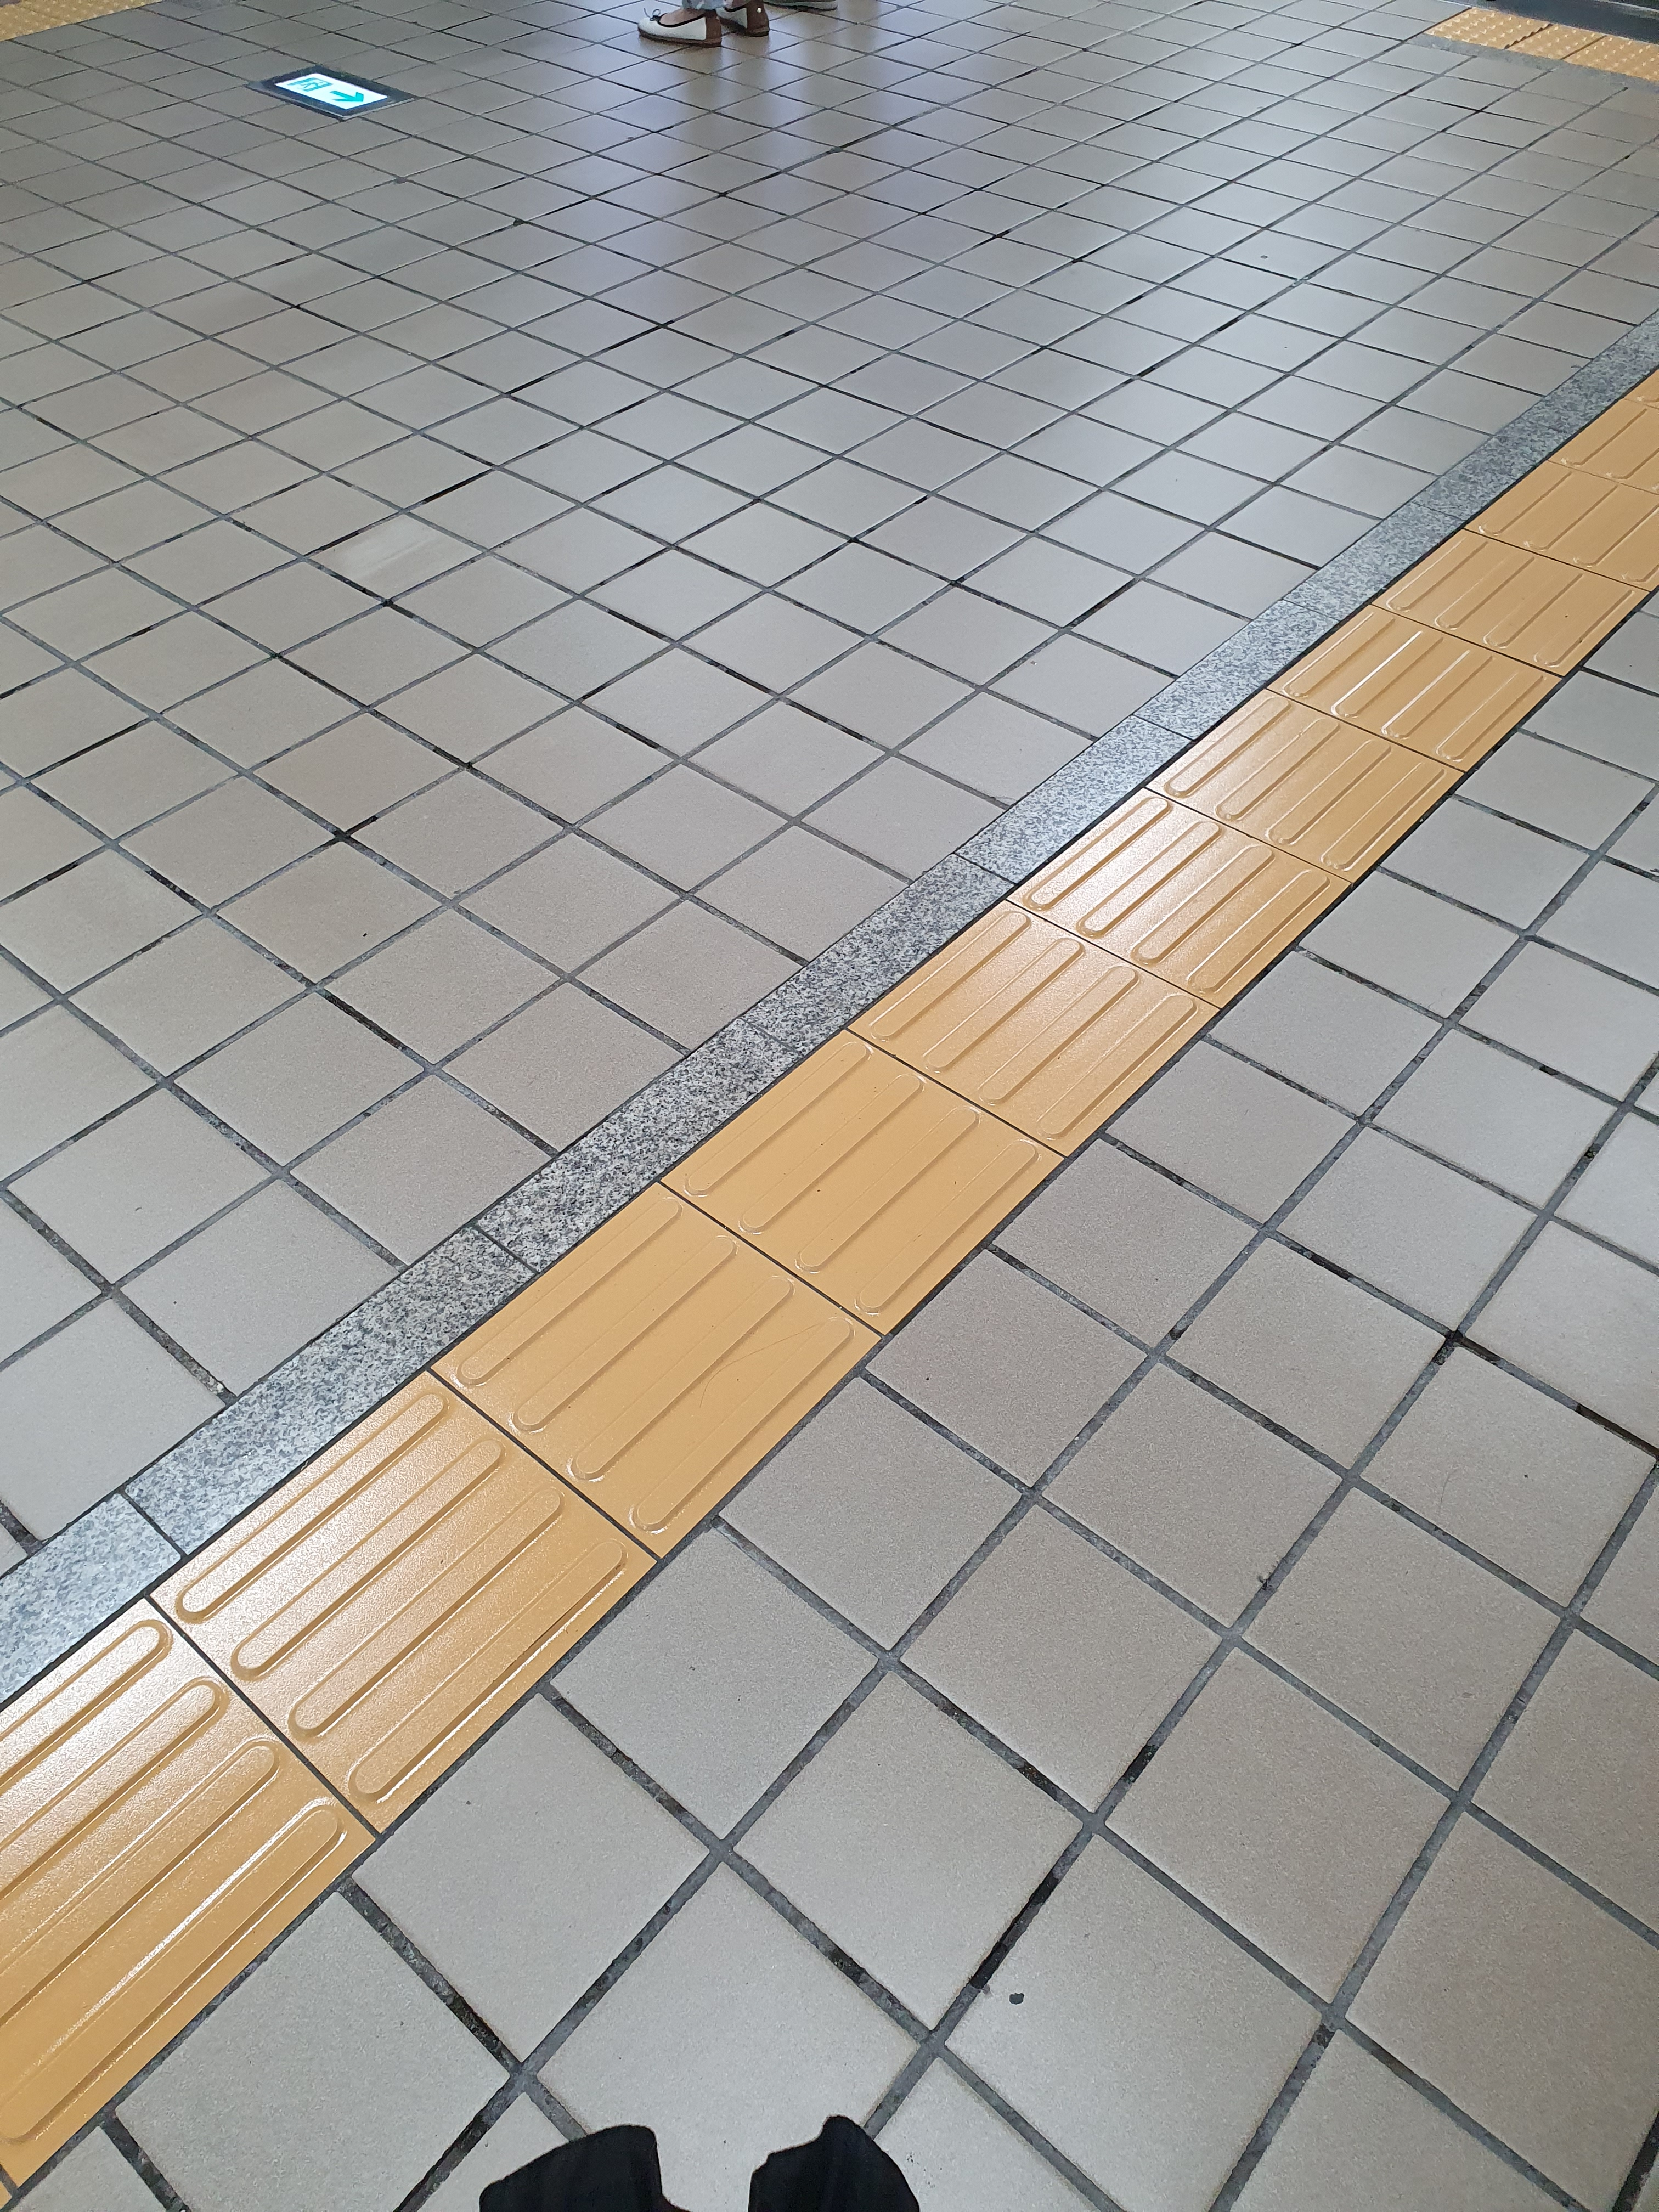guideBlock: (247, 1449, 619, 1752), (2, 1676, 307, 2012), (514, 1231, 784, 1475), (763, 1062, 1006, 1282), (1096, 815, 1302, 1012), (953, 900, 1133, 1113), (1352, 613, 1542, 798), (1220, 681, 1413, 843), (1436, 533, 1621, 686), (1523, 442, 1659, 583)
